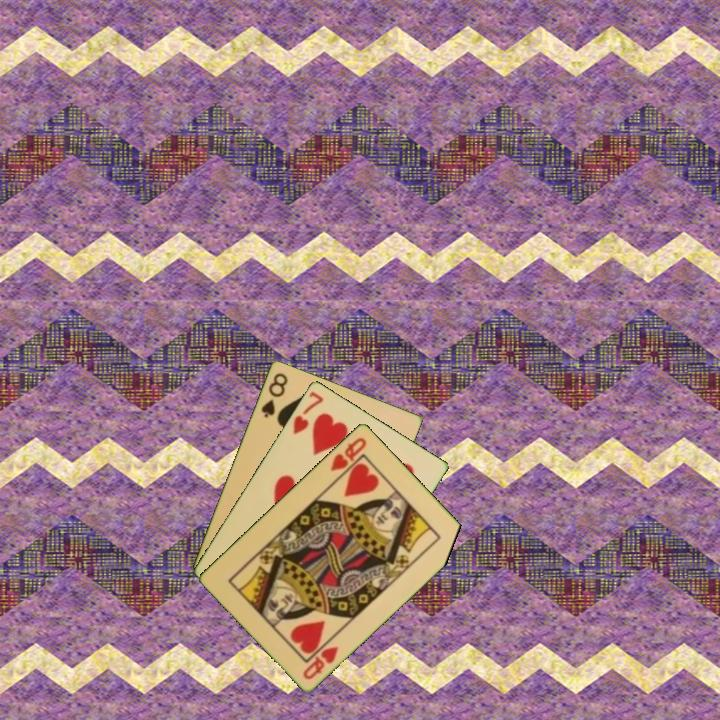7h: (289, 387, 326, 437)
8s: (257, 369, 290, 421)
Qh: (326, 433, 369, 474), (299, 642, 342, 682)
